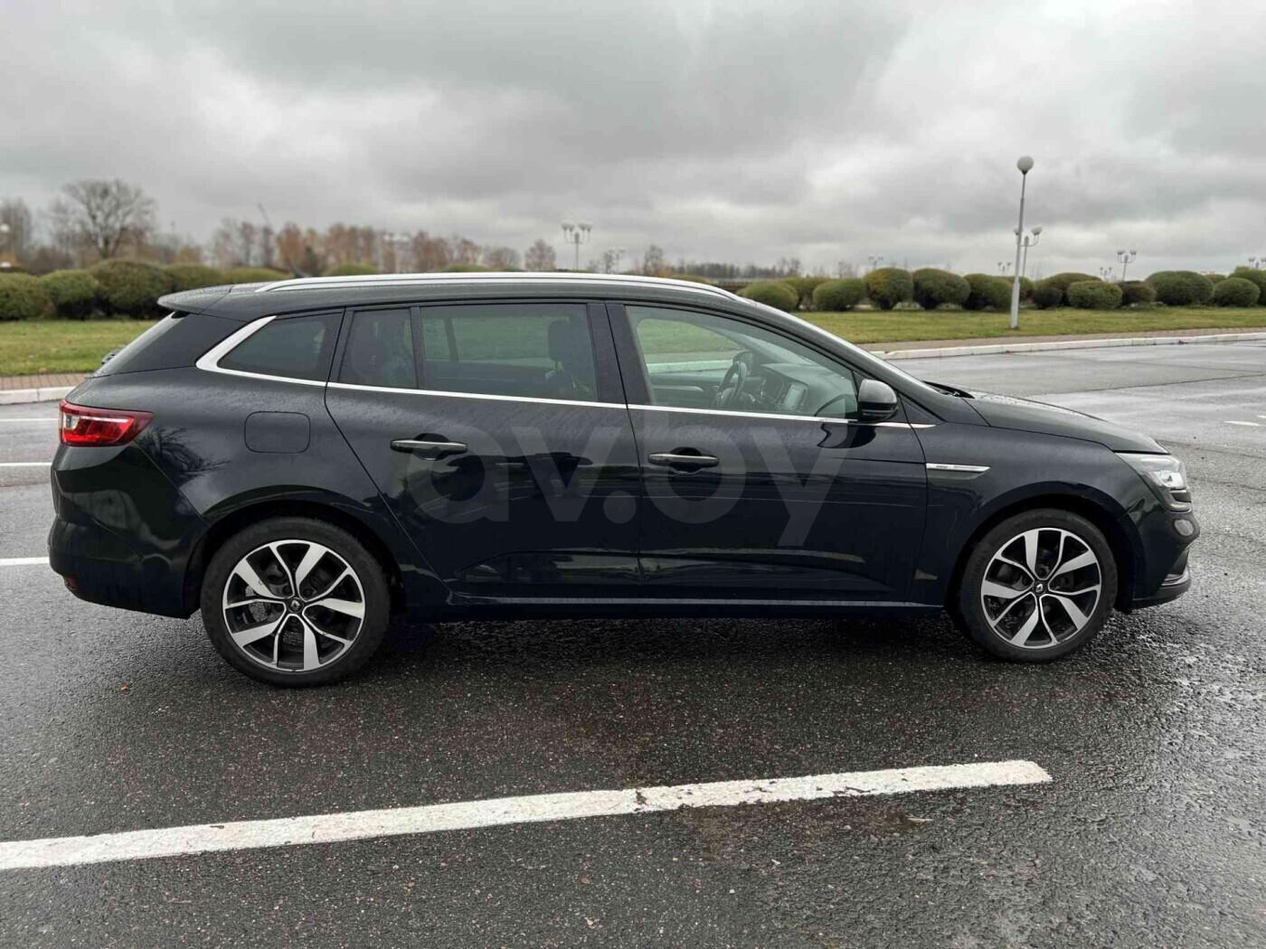Megane_2016-2020: (43, 274, 1195, 687)
